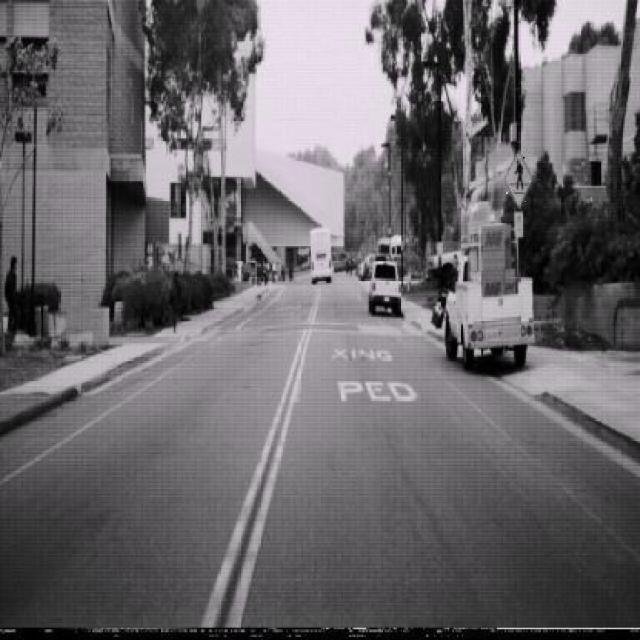pedestrianCrossing: (503, 148, 534, 208)
